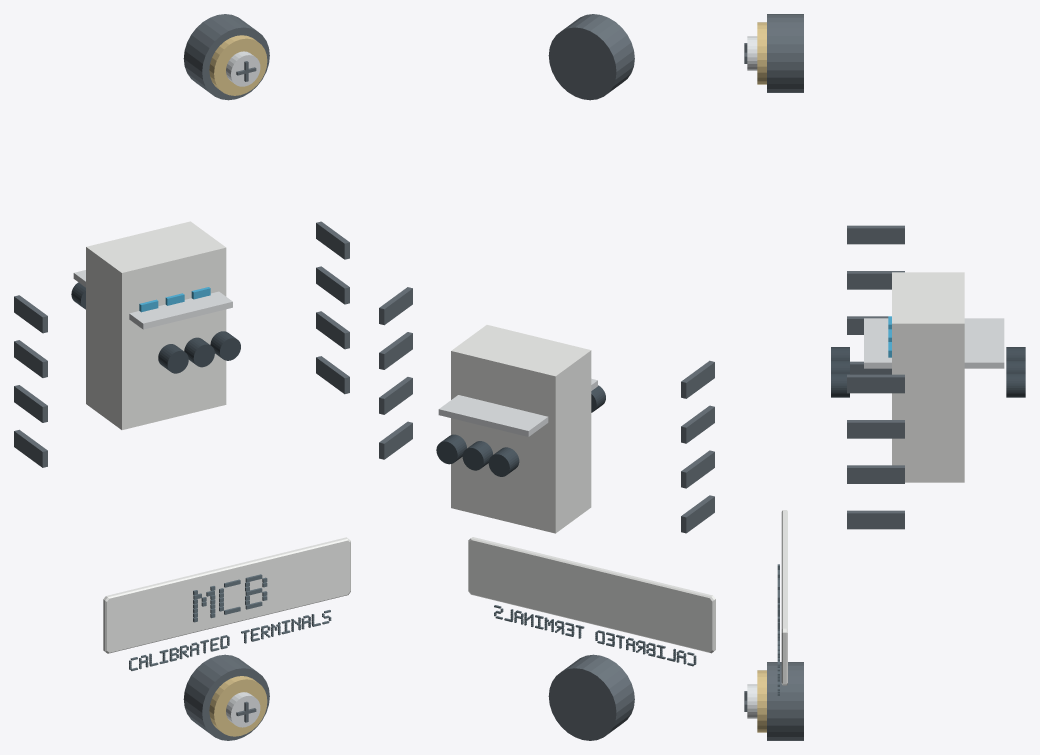
The model's file is circuitBreaker.glb.
3 views of the same model, side by side, from view 1: azimuth 30°, elevation 25°; view 2: azimuth 150°, elevation 25°; view 3: azimuth 270°, elevation 25° (orthographic).
Visible parts, largest first — view 1: circuitBreaker-detailed; view 2: circuitBreaker-detailed; view 3: circuitBreaker-detailed.
Part boxes in pixels (x1=…): circuitBreaker-detailed: x1=14, y1=14, x2=350, y2=740; circuitBreaker-detailed: x1=379, y1=14, x2=715, y2=740; circuitBreaker-detailed: x1=744, y1=14, x2=1025, y2=740.
Bounding box in the file's own units: 1.42 × 3.15 × 1.11.
